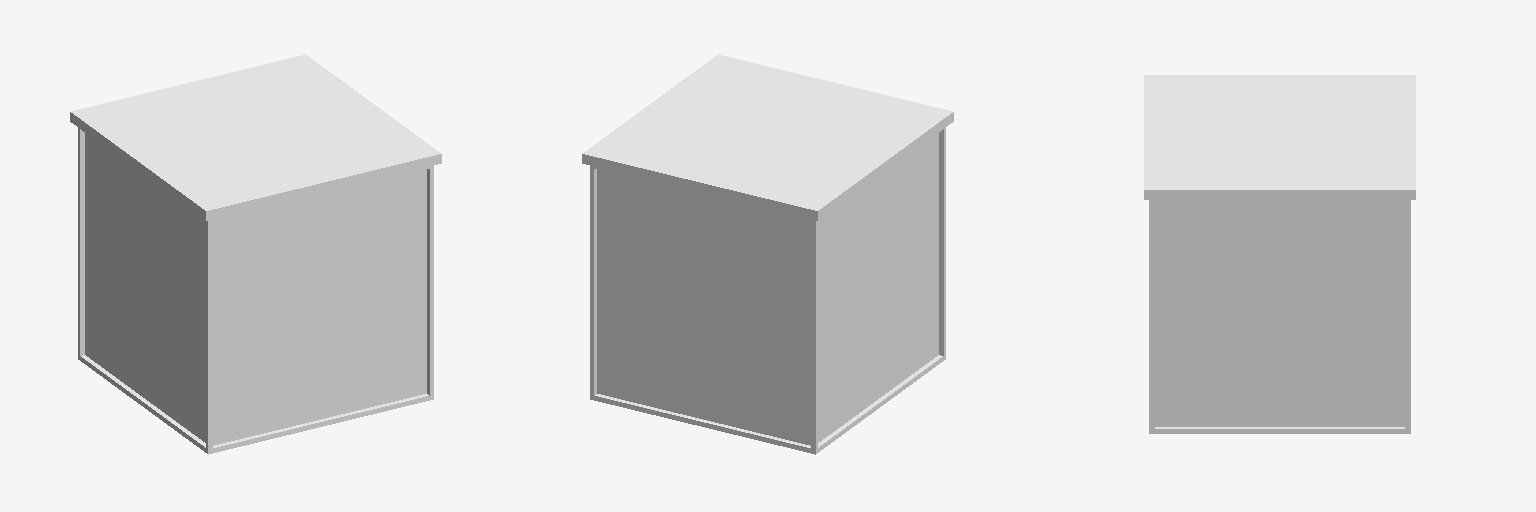
The model's file is block_50_50_50.obj.
The picture shows the model from 3 angles: view 1: azimuth 30°, elevation 25°; view 2: azimuth 150°, elevation 25°; view 3: azimuth 270°, elevation 25°; orthographic projection.
Parts seen in each view (by area): view 1: object 1; view 2: object 1; view 3: object 1.
Boxes of the visible parts, x1,y1,x2,y2 form: object 1: [70, 54, 441, 454]; object 1: [582, 54, 953, 454]; object 1: [1144, 75, 1415, 433].
Size of the model in its own units: 5 by 5 by 5.